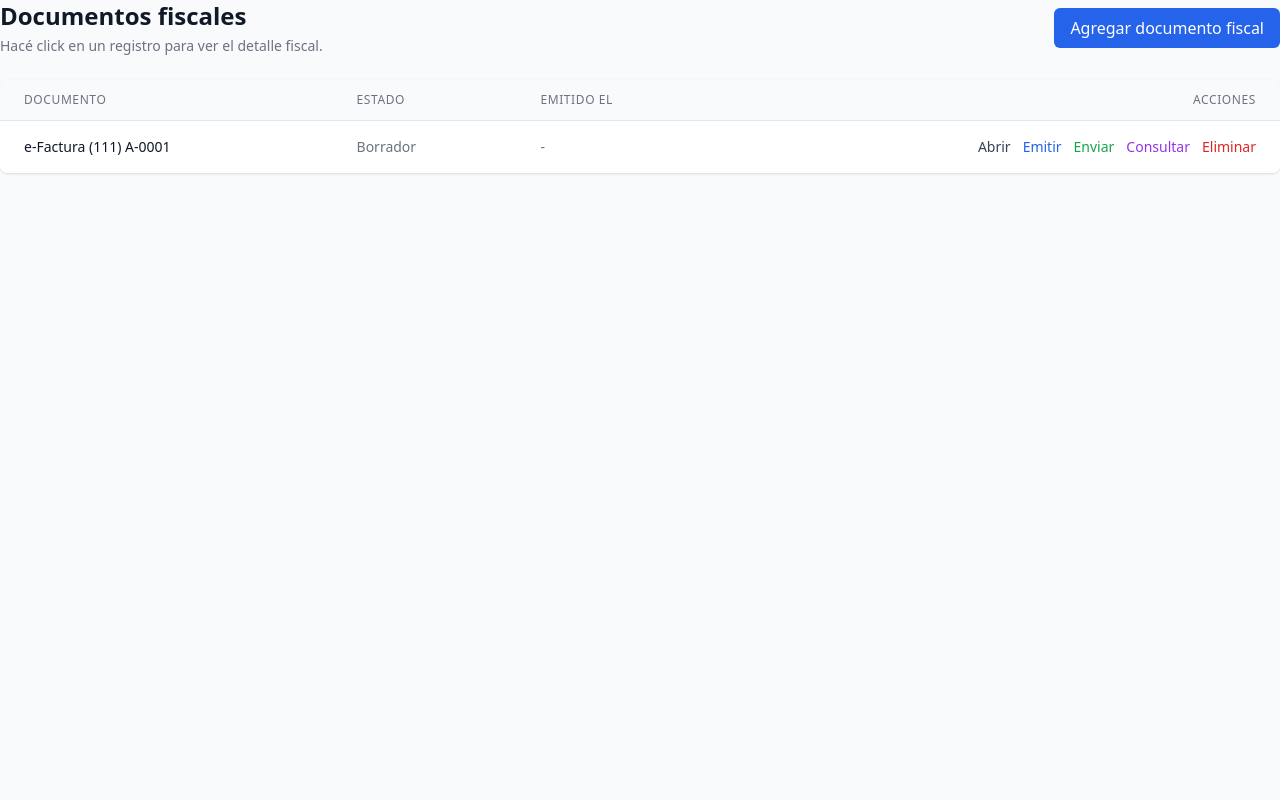
Test: FiscalDocuments CRUD › opens issue modal with certificates
The width and height of the screenshot is (1280, 800).
Expected: the text "e-Factura (111) A-0001" is shown, [0,120,332,173]
What coordinates should you click on to do the following:
click the button "Emitir"
I would click on:
 (1042, 147)
Its box is [1023,137,1062,157].
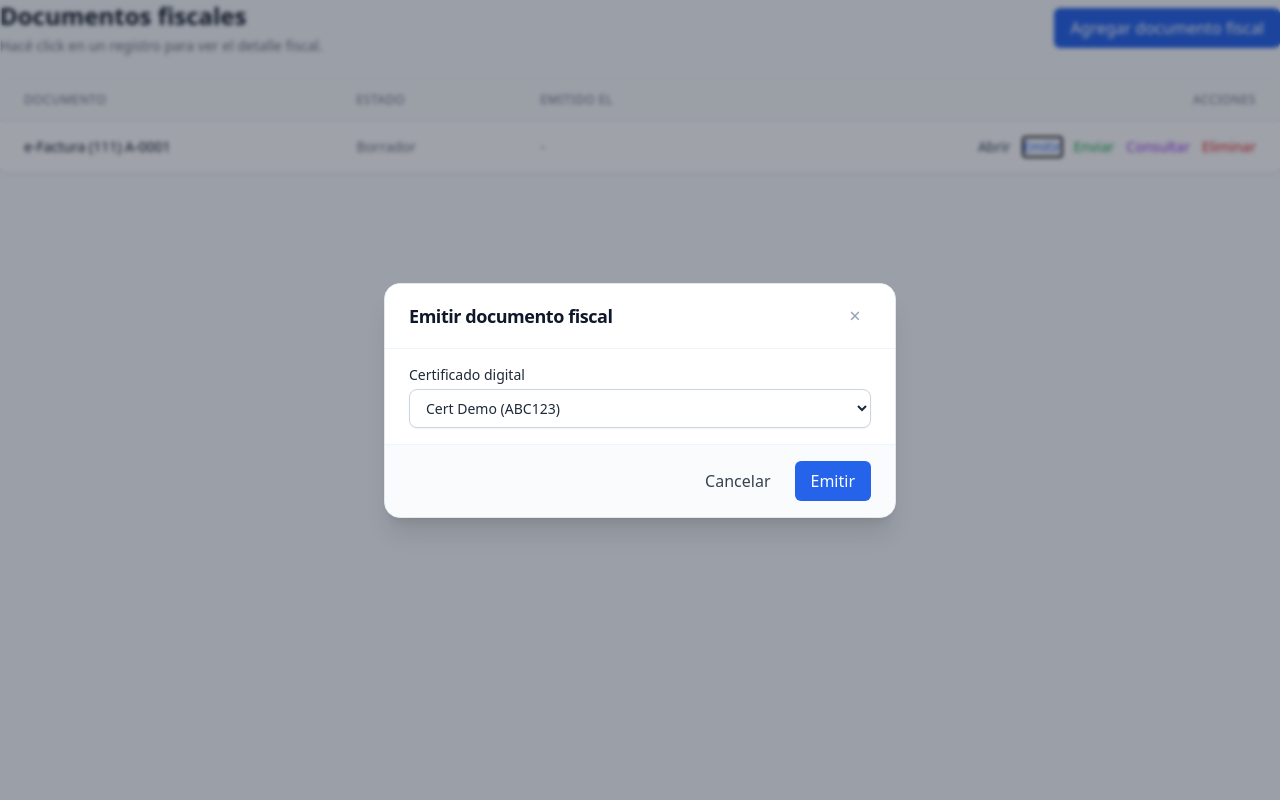
Expected: the heading "Emitir documento fiscal" is shown, [409,302,612,330]
